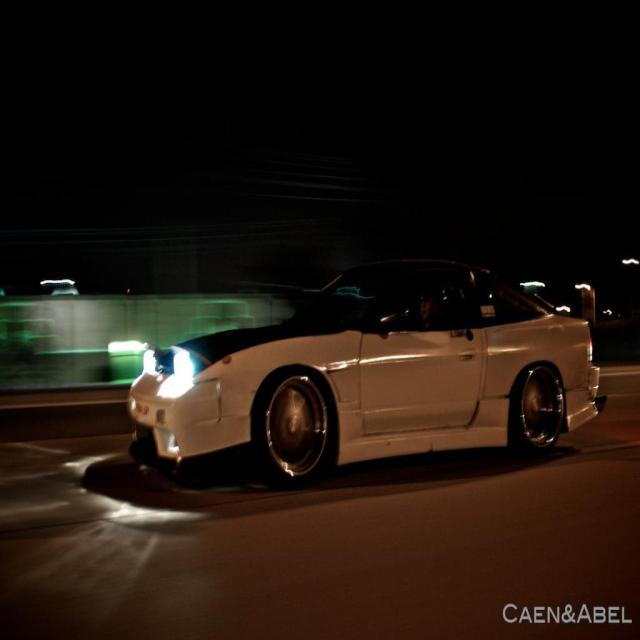car: (105, 254, 588, 492)
